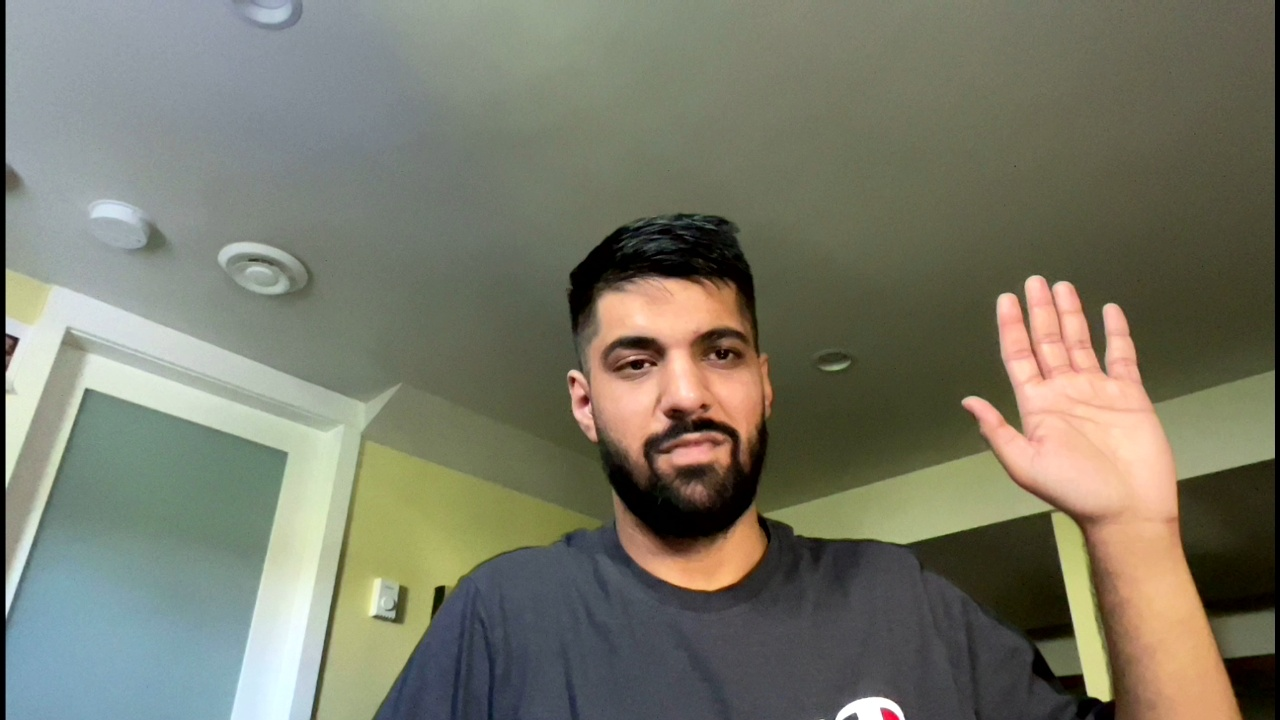Hey!: (939, 267, 1228, 536)
